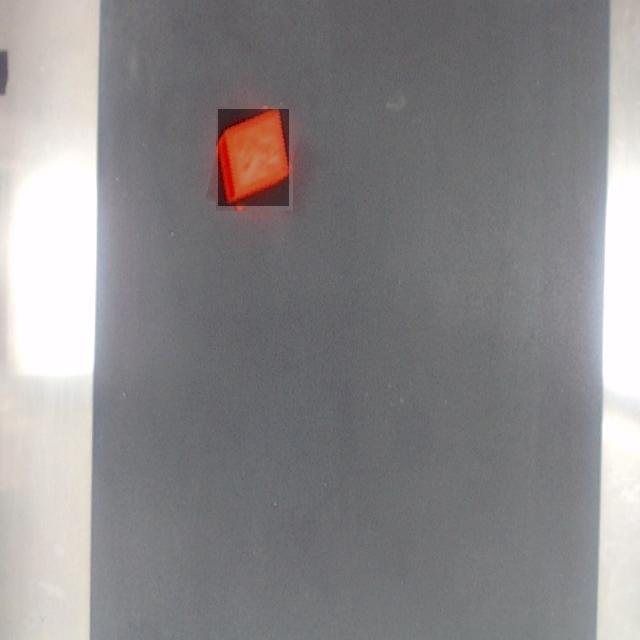Rojo: (218, 110, 289, 206)
